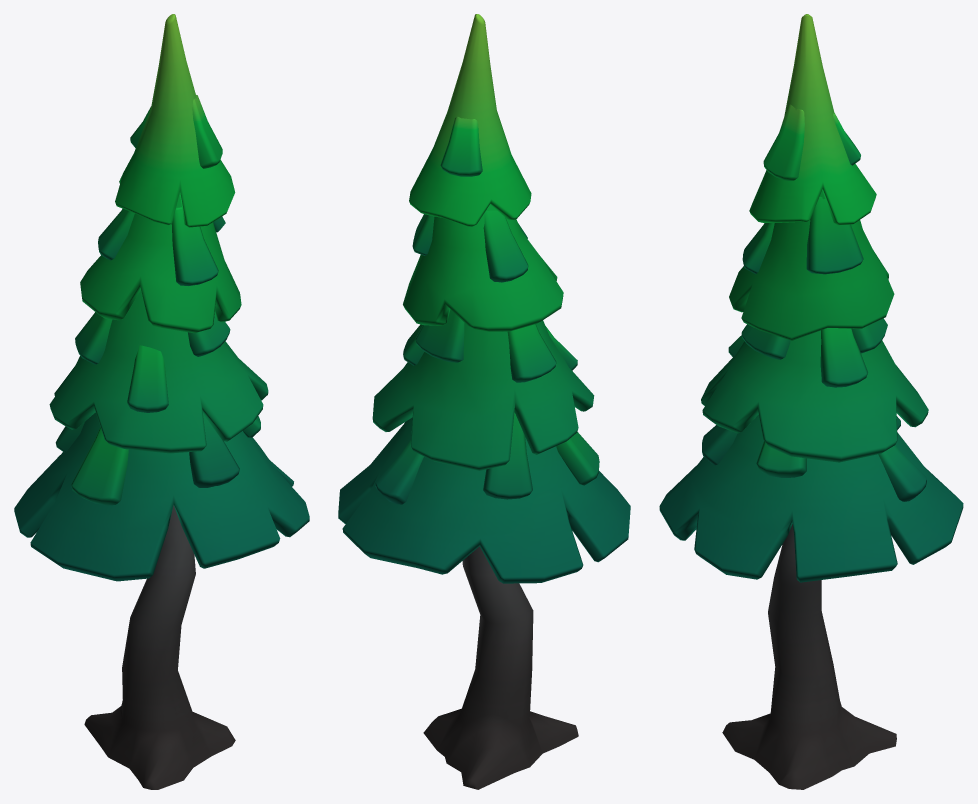
Rendered from Pine_01.fbx.
3 renders of one model, left to right at view 1: azimuth 30°, elevation 25°; view 2: azimuth 150°, elevation 25°; view 3: azimuth 270°, elevation 25°, orthographic. The views are drawn at different scales.
Visible parts, largest first — view 1: Pine_01; view 2: Pine_01; view 3: Pine_01.
Boxes of the visible parts, x1,y1,x2,y2 form: Pine_01: (14,14,309,789); Pine_01: (338,14,630,789); Pine_01: (659,14,963,789).
Size of the model in its own units: 236 by 241 by 657.
